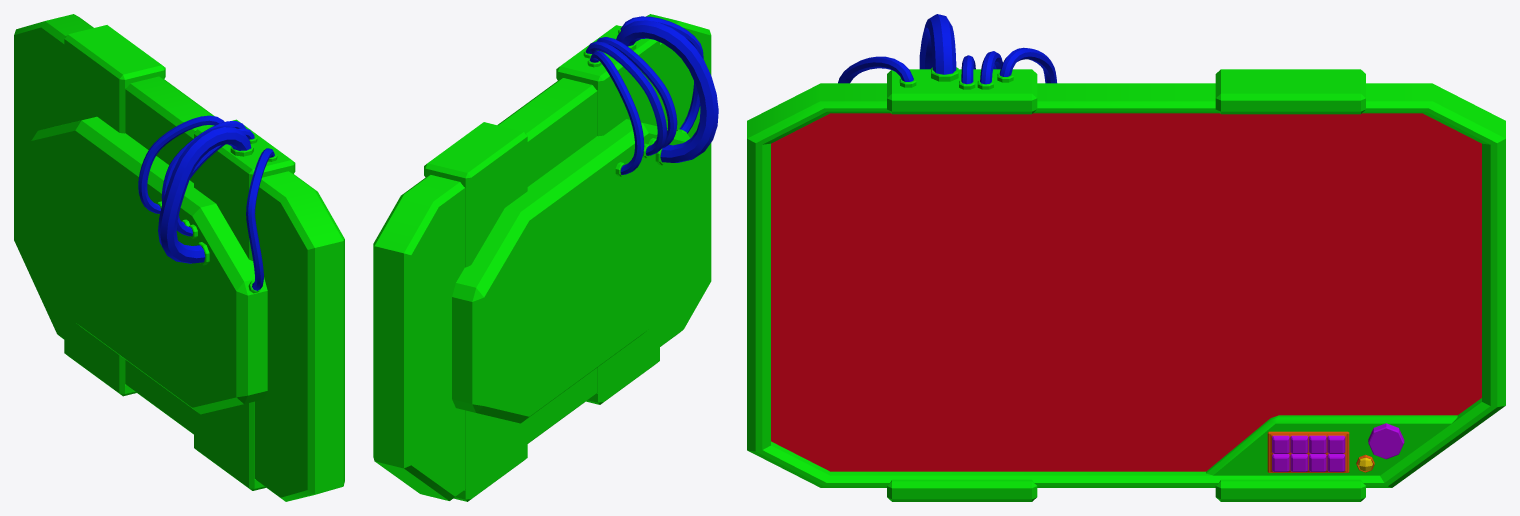
The model's file is Screen 4.fbx.
3 renders of one model, left to right at view 1: azimuth 30°, elevation 25°; view 2: azimuth 150°, elevation 25°; view 3: azimuth 270°, elevation 25°, orthographic. The views are drawn at different scales.
Visible parts, largest first — view 1: Screen 4; view 2: Screen 4; view 3: Screen 4.
Boxes of the visible parts, x1=… form: Screen 4: x1=14, y1=14, x2=344, y2=501; Screen 4: x1=373, y1=14, x2=718, y2=501; Screen 4: x1=747, y1=14, x2=1505, y2=501.
Size of the model in its own units: 0.1084 by 0.4723 by 0.3073.
